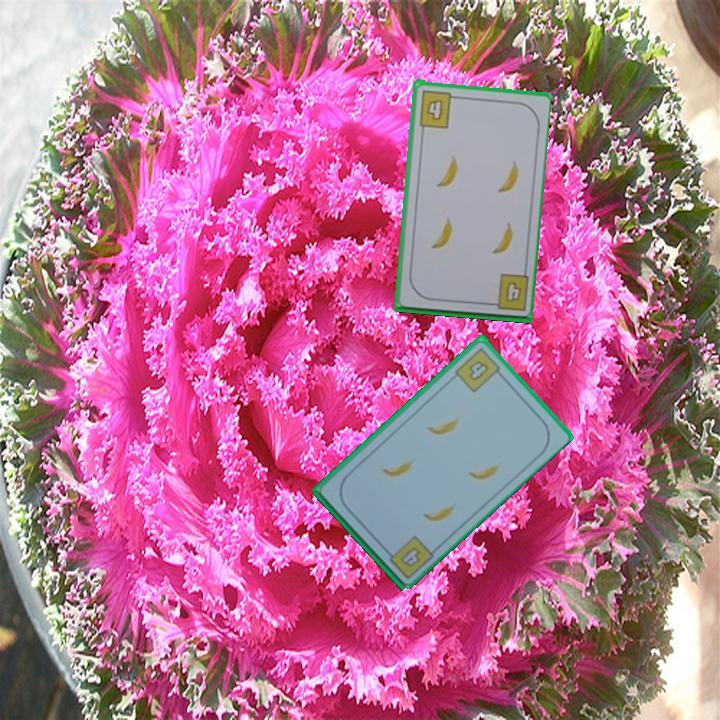4b: (451, 343, 506, 395), (381, 532, 436, 582), (415, 86, 460, 130), (501, 277, 524, 305)
